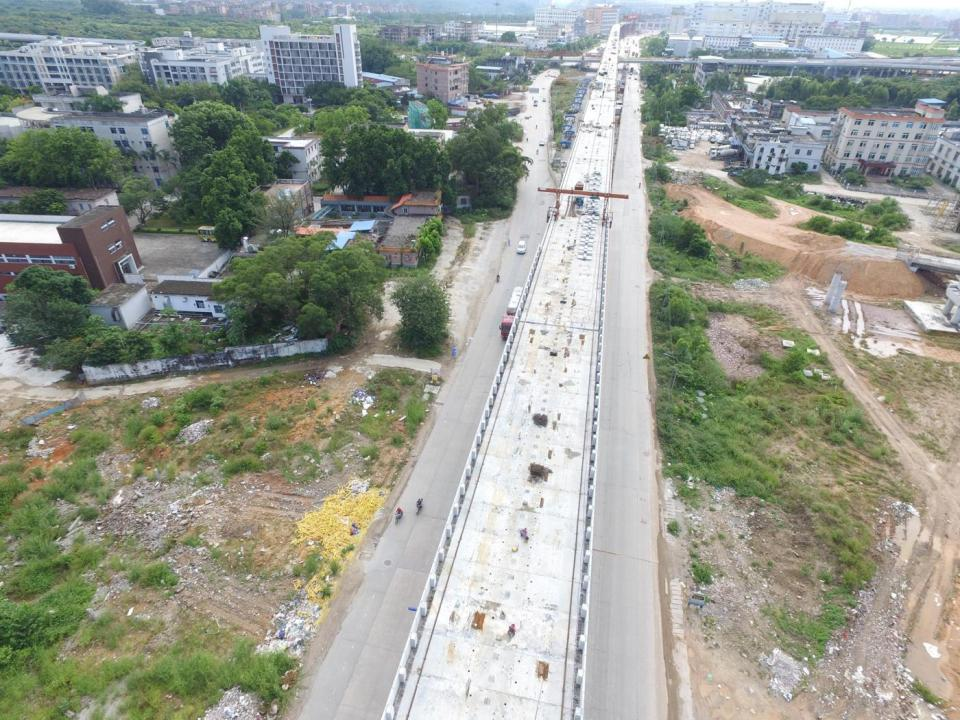bus: (199, 226, 229, 242)
car: (517, 241, 526, 255), (672, 145, 686, 151), (690, 143, 694, 149), (540, 140, 544, 145), (543, 98, 547, 101), (535, 100, 537, 106)
truck: (500, 286, 524, 340), (504, 108, 520, 116), (483, 94, 500, 99)
